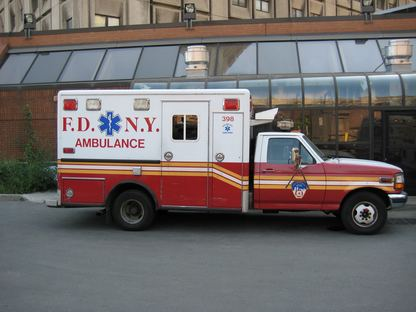ambulance: (44, 89, 408, 236)
